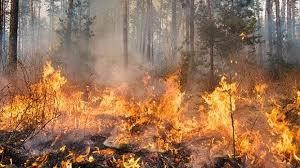fire: (9, 55, 300, 164)
